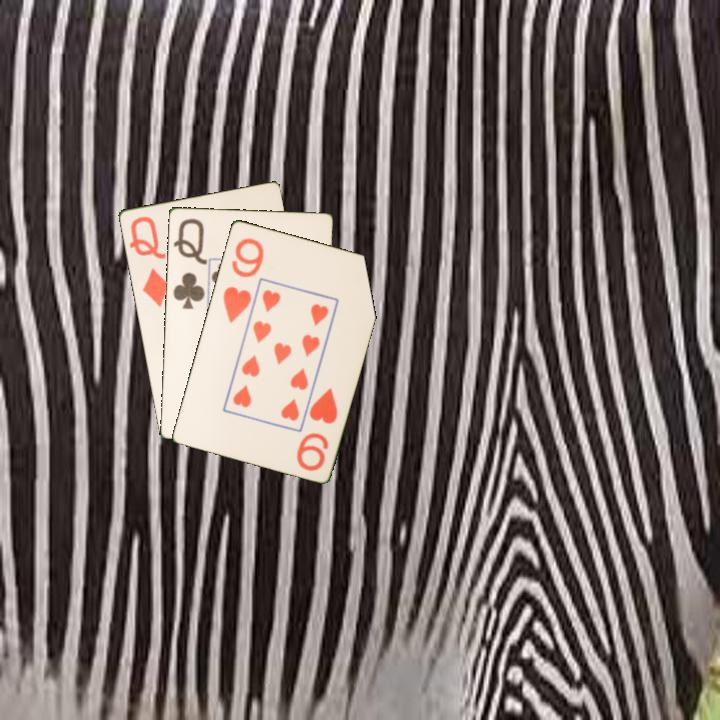9h: (219, 234, 267, 326), (293, 384, 340, 474)
Qc: (169, 214, 208, 312)
Qd: (126, 212, 173, 310)
